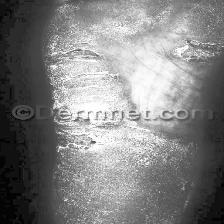Non-Cancerous Skin Condition: (56, 130, 184, 198), (43, 46, 211, 88)
